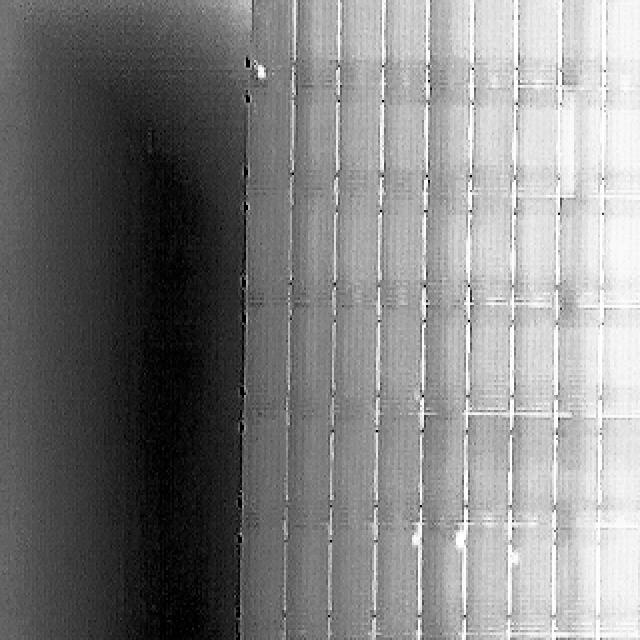Hotspots: (253, 64, 269, 80)
PV-modules: (323, 527, 373, 640), (551, 528, 601, 640), (288, 190, 335, 303), (240, 525, 286, 640), (418, 528, 465, 640), (423, 85, 470, 196), (422, 195, 468, 308), (380, 196, 426, 309), (421, 304, 468, 414), (333, 304, 380, 414), (464, 524, 511, 634), (514, 304, 560, 416), (330, 414, 376, 526), (284, 526, 329, 640), (377, 416, 423, 527), (246, 195, 292, 306), (244, 303, 290, 414), (379, 304, 425, 414), (294, 86, 340, 196), (382, 84, 428, 194), (286, 304, 332, 414), (379, 528, 424, 640), (248, 83, 293, 195), (334, 194, 379, 306), (284, 414, 329, 526), (554, 307, 600, 416), (596, 527, 640, 640), (468, 304, 514, 412), (420, 416, 465, 526), (517, 86, 562, 196), (243, 410, 288, 520), (508, 522, 552, 634), (466, 417, 512, 524), (553, 418, 598, 527), (470, 87, 515, 196), (596, 305, 640, 415), (470, 196, 514, 304), (556, 199, 600, 307), (509, 418, 553, 526), (515, 198, 559, 305), (337, 84, 381, 191), (559, 88, 602, 197), (598, 418, 640, 528), (600, 198, 640, 310), (516, 0, 562, 90), (602, 87, 640, 195), (558, 0, 602, 92), (472, 0, 516, 90), (424, 0, 468, 90), (384, 0, 428, 90), (292, 0, 338, 85), (336, 0, 382, 85), (248, 0, 294, 80), (604, 0, 640, 88)
